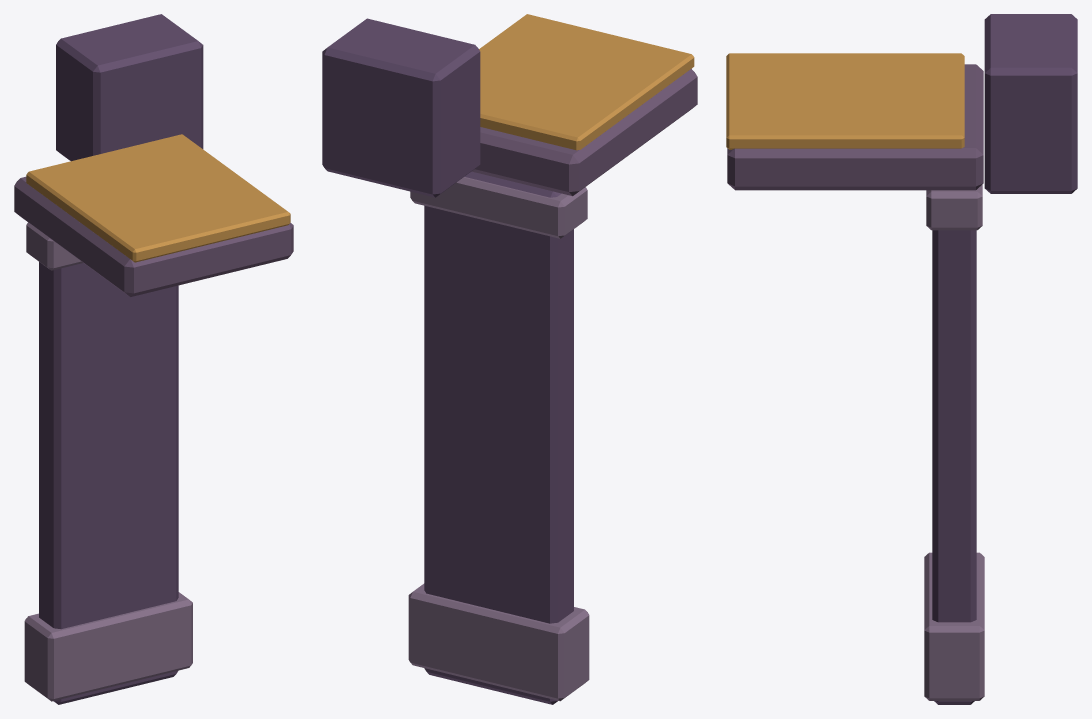
Rendered from SM_RGB_GateFrame.fbx.
3 renders of one model, left to right at view 1: azimuth 30°, elevation 25°; view 2: azimuth 150°, elevation 25°; view 3: azimuth 270°, elevation 25°, orthographic. The views are drawn at different scales.
Visible parts, largest first — view 1: SM_RGB_GateFrame; view 2: SM_RGB_GateFrame; view 3: SM_RGB_GateFrame.
Boxes of the visible parts, bbox=[...] form: SM_RGB_GateFrame: bbox=[14, 14, 293, 704]; SM_RGB_GateFrame: bbox=[322, 14, 697, 704]; SM_RGB_GateFrame: bbox=[726, 14, 1077, 704].
Size of the model in its own units: 123 by 174 by 362.
